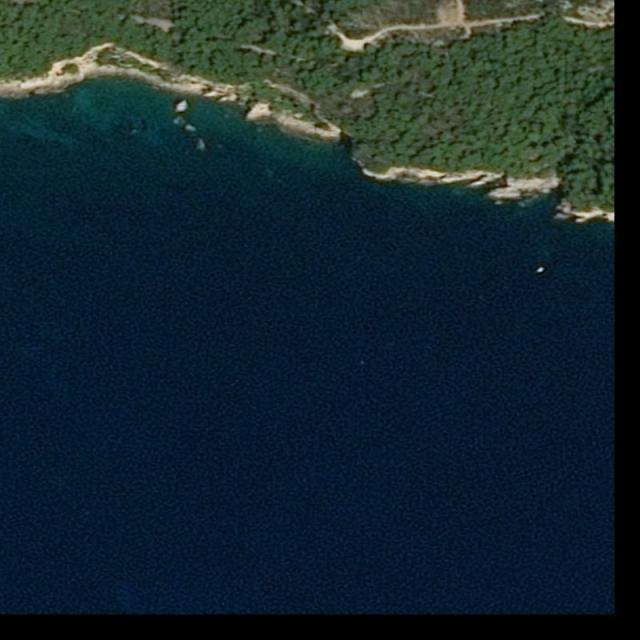ship: (534, 265, 546, 275)
